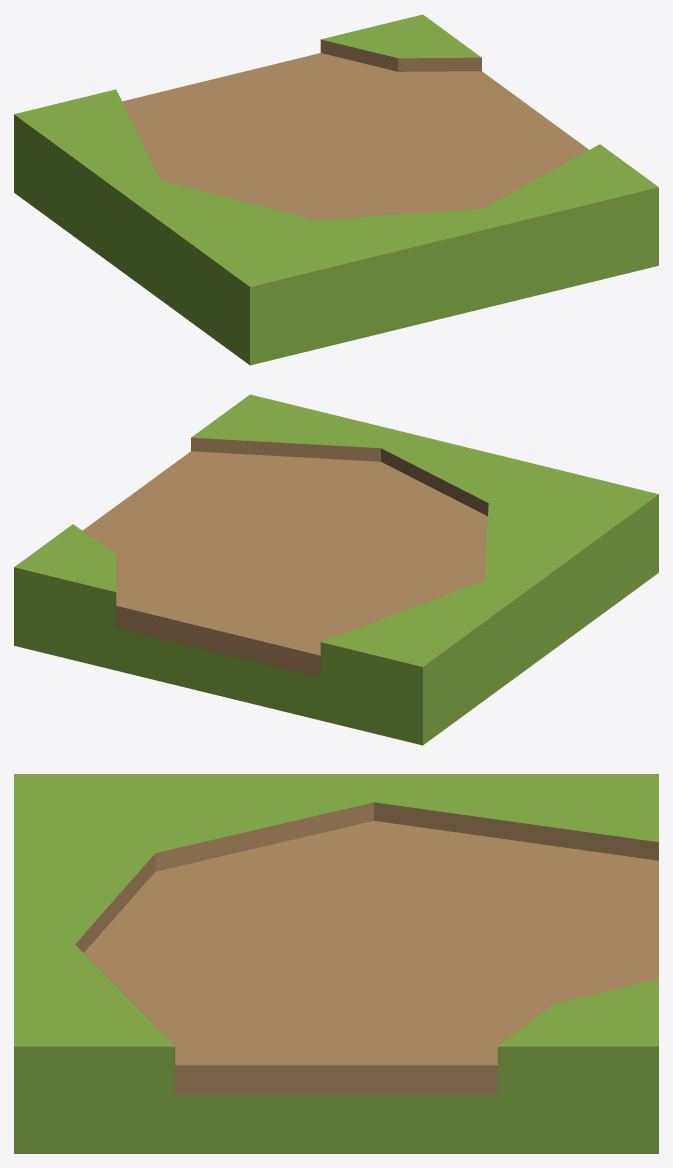
Rendered from path-dirt-turn-grass.obj.
3 views of the same model, one above another, from view 1: azimuth 30°, elevation 25°; view 2: azimuth 150°, elevation 25°; view 3: azimuth 270°, elevation 25° (orthographic). The views are drawn at different scales.
Parts seen in each view (by area): view 1: Mesh1_Group1_Model.015; view 2: Mesh1_Group1_Model.015; view 3: Mesh1_Group1_Model.015.
Boxes of the visible parts, bbox=[...] form: Mesh1_Group1_Model.015: bbox=[14, 14, 658, 365]; Mesh1_Group1_Model.015: bbox=[14, 394, 658, 745]; Mesh1_Group1_Model.015: bbox=[14, 774, 658, 1153].
Bounding box in the file's own units: 3 × 0.55 × 3.
